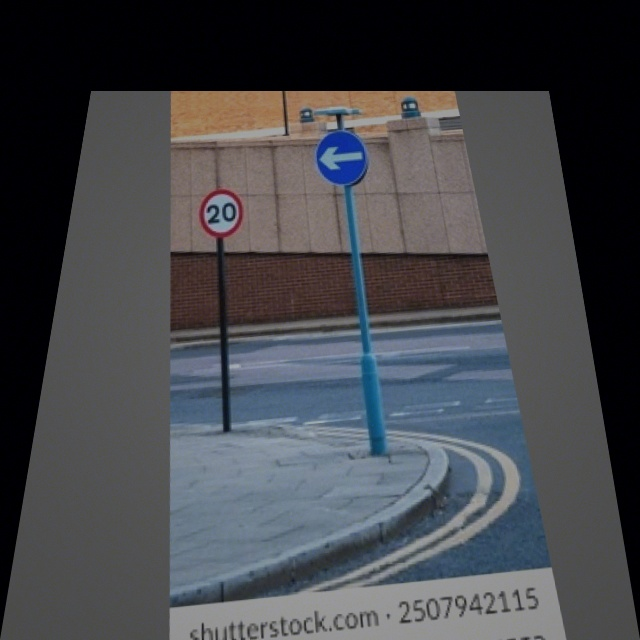Compulsory_Turn_Left: (310, 127, 372, 188)
